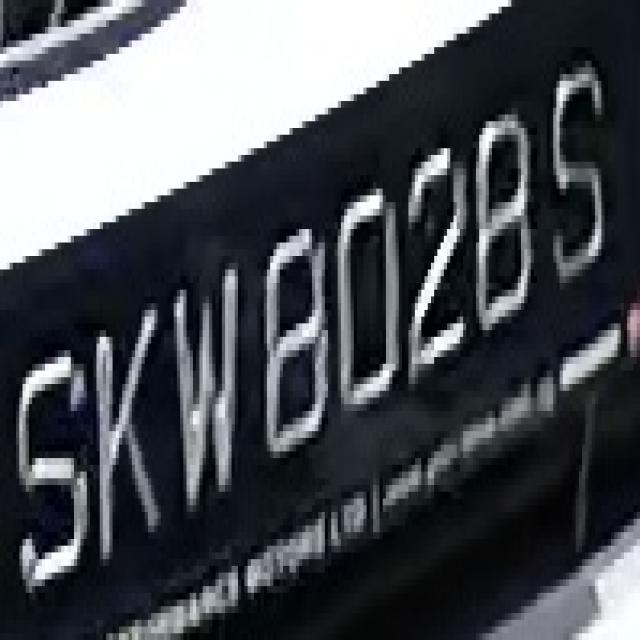0: (325, 168, 405, 411)
2: (392, 135, 473, 397)
8: (251, 202, 328, 478), (466, 94, 534, 337)
K: (90, 296, 164, 572)
S: (3, 330, 90, 613), (544, 13, 604, 316)
W: (164, 236, 244, 532)
